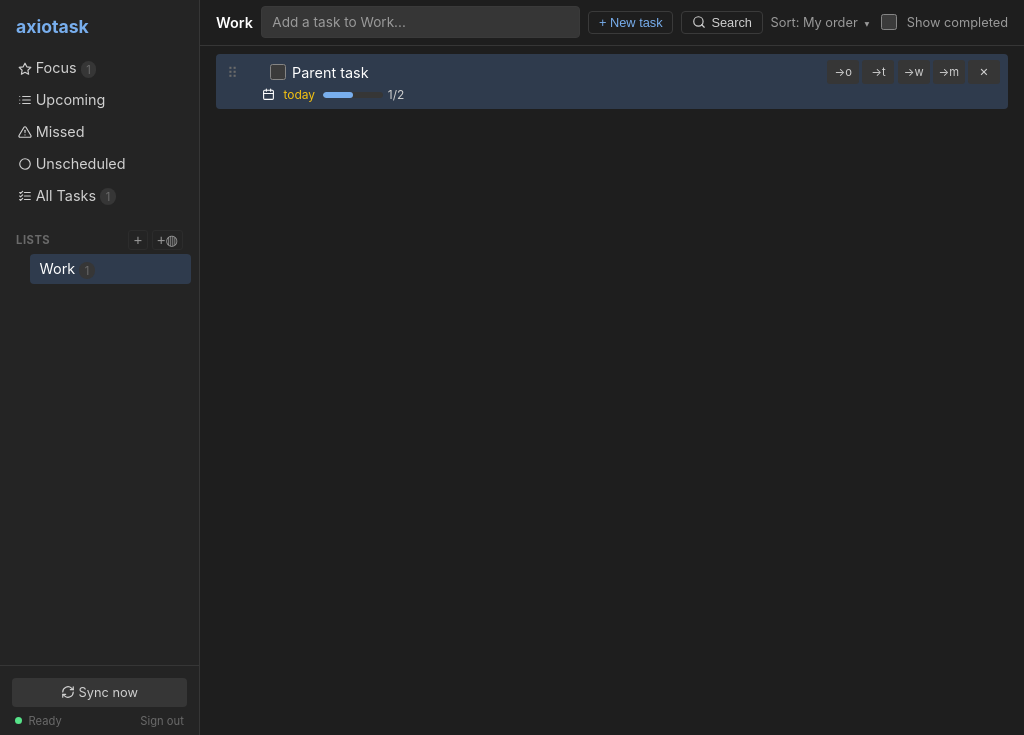
Scenario: Top-level-only list (one-level subtasks, #82) › Subtasks visible in detail panel › subtask checklist shows completed state
Click the text "Parent task": (330, 72) [292,64,369,81]
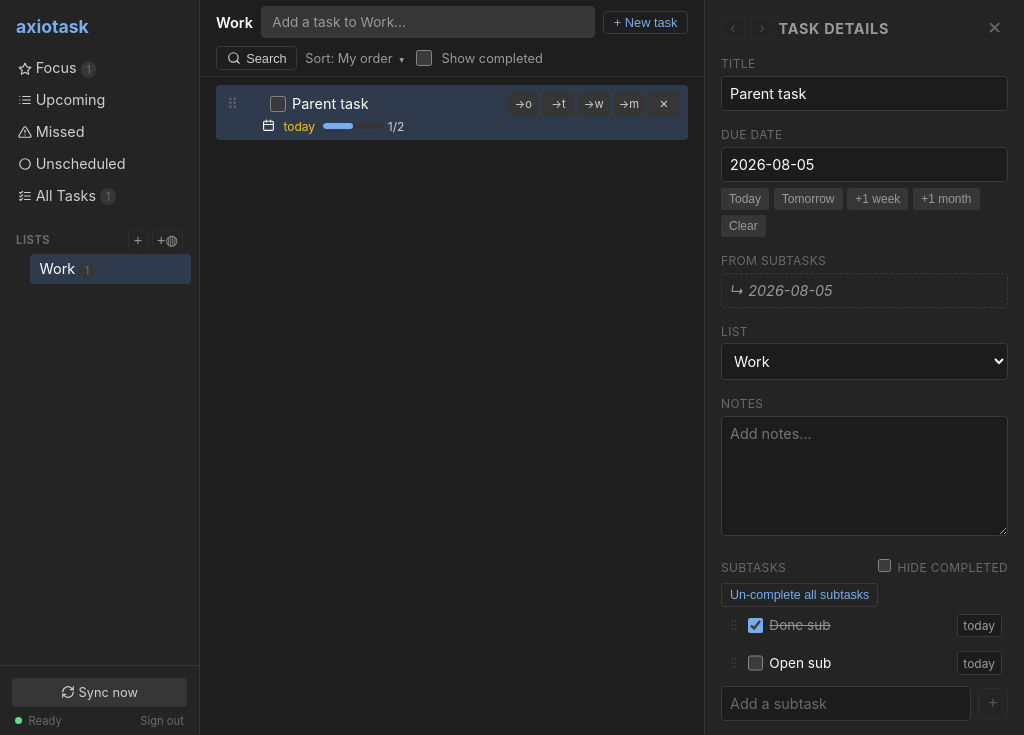
Now the text "Subtasks" is shown, box [721,560,786,575]
Now the number of elements with class "subtask-item" is 2, box [721,609,1008,642]; [721,646,1008,680]
